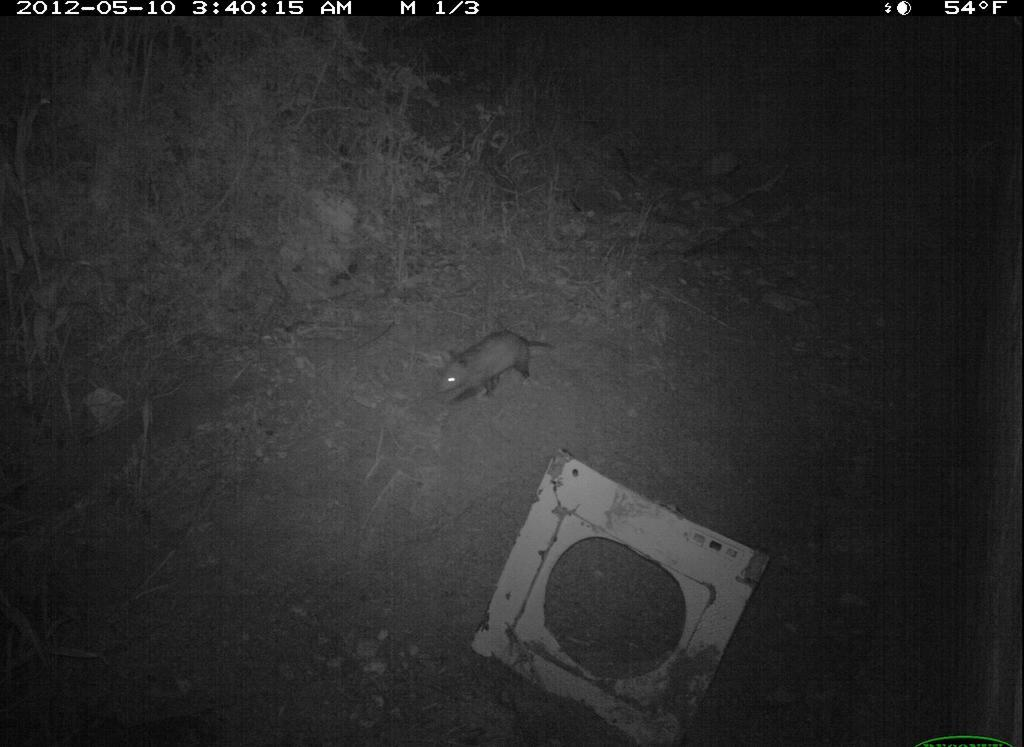opossum: (432, 313, 564, 420)
